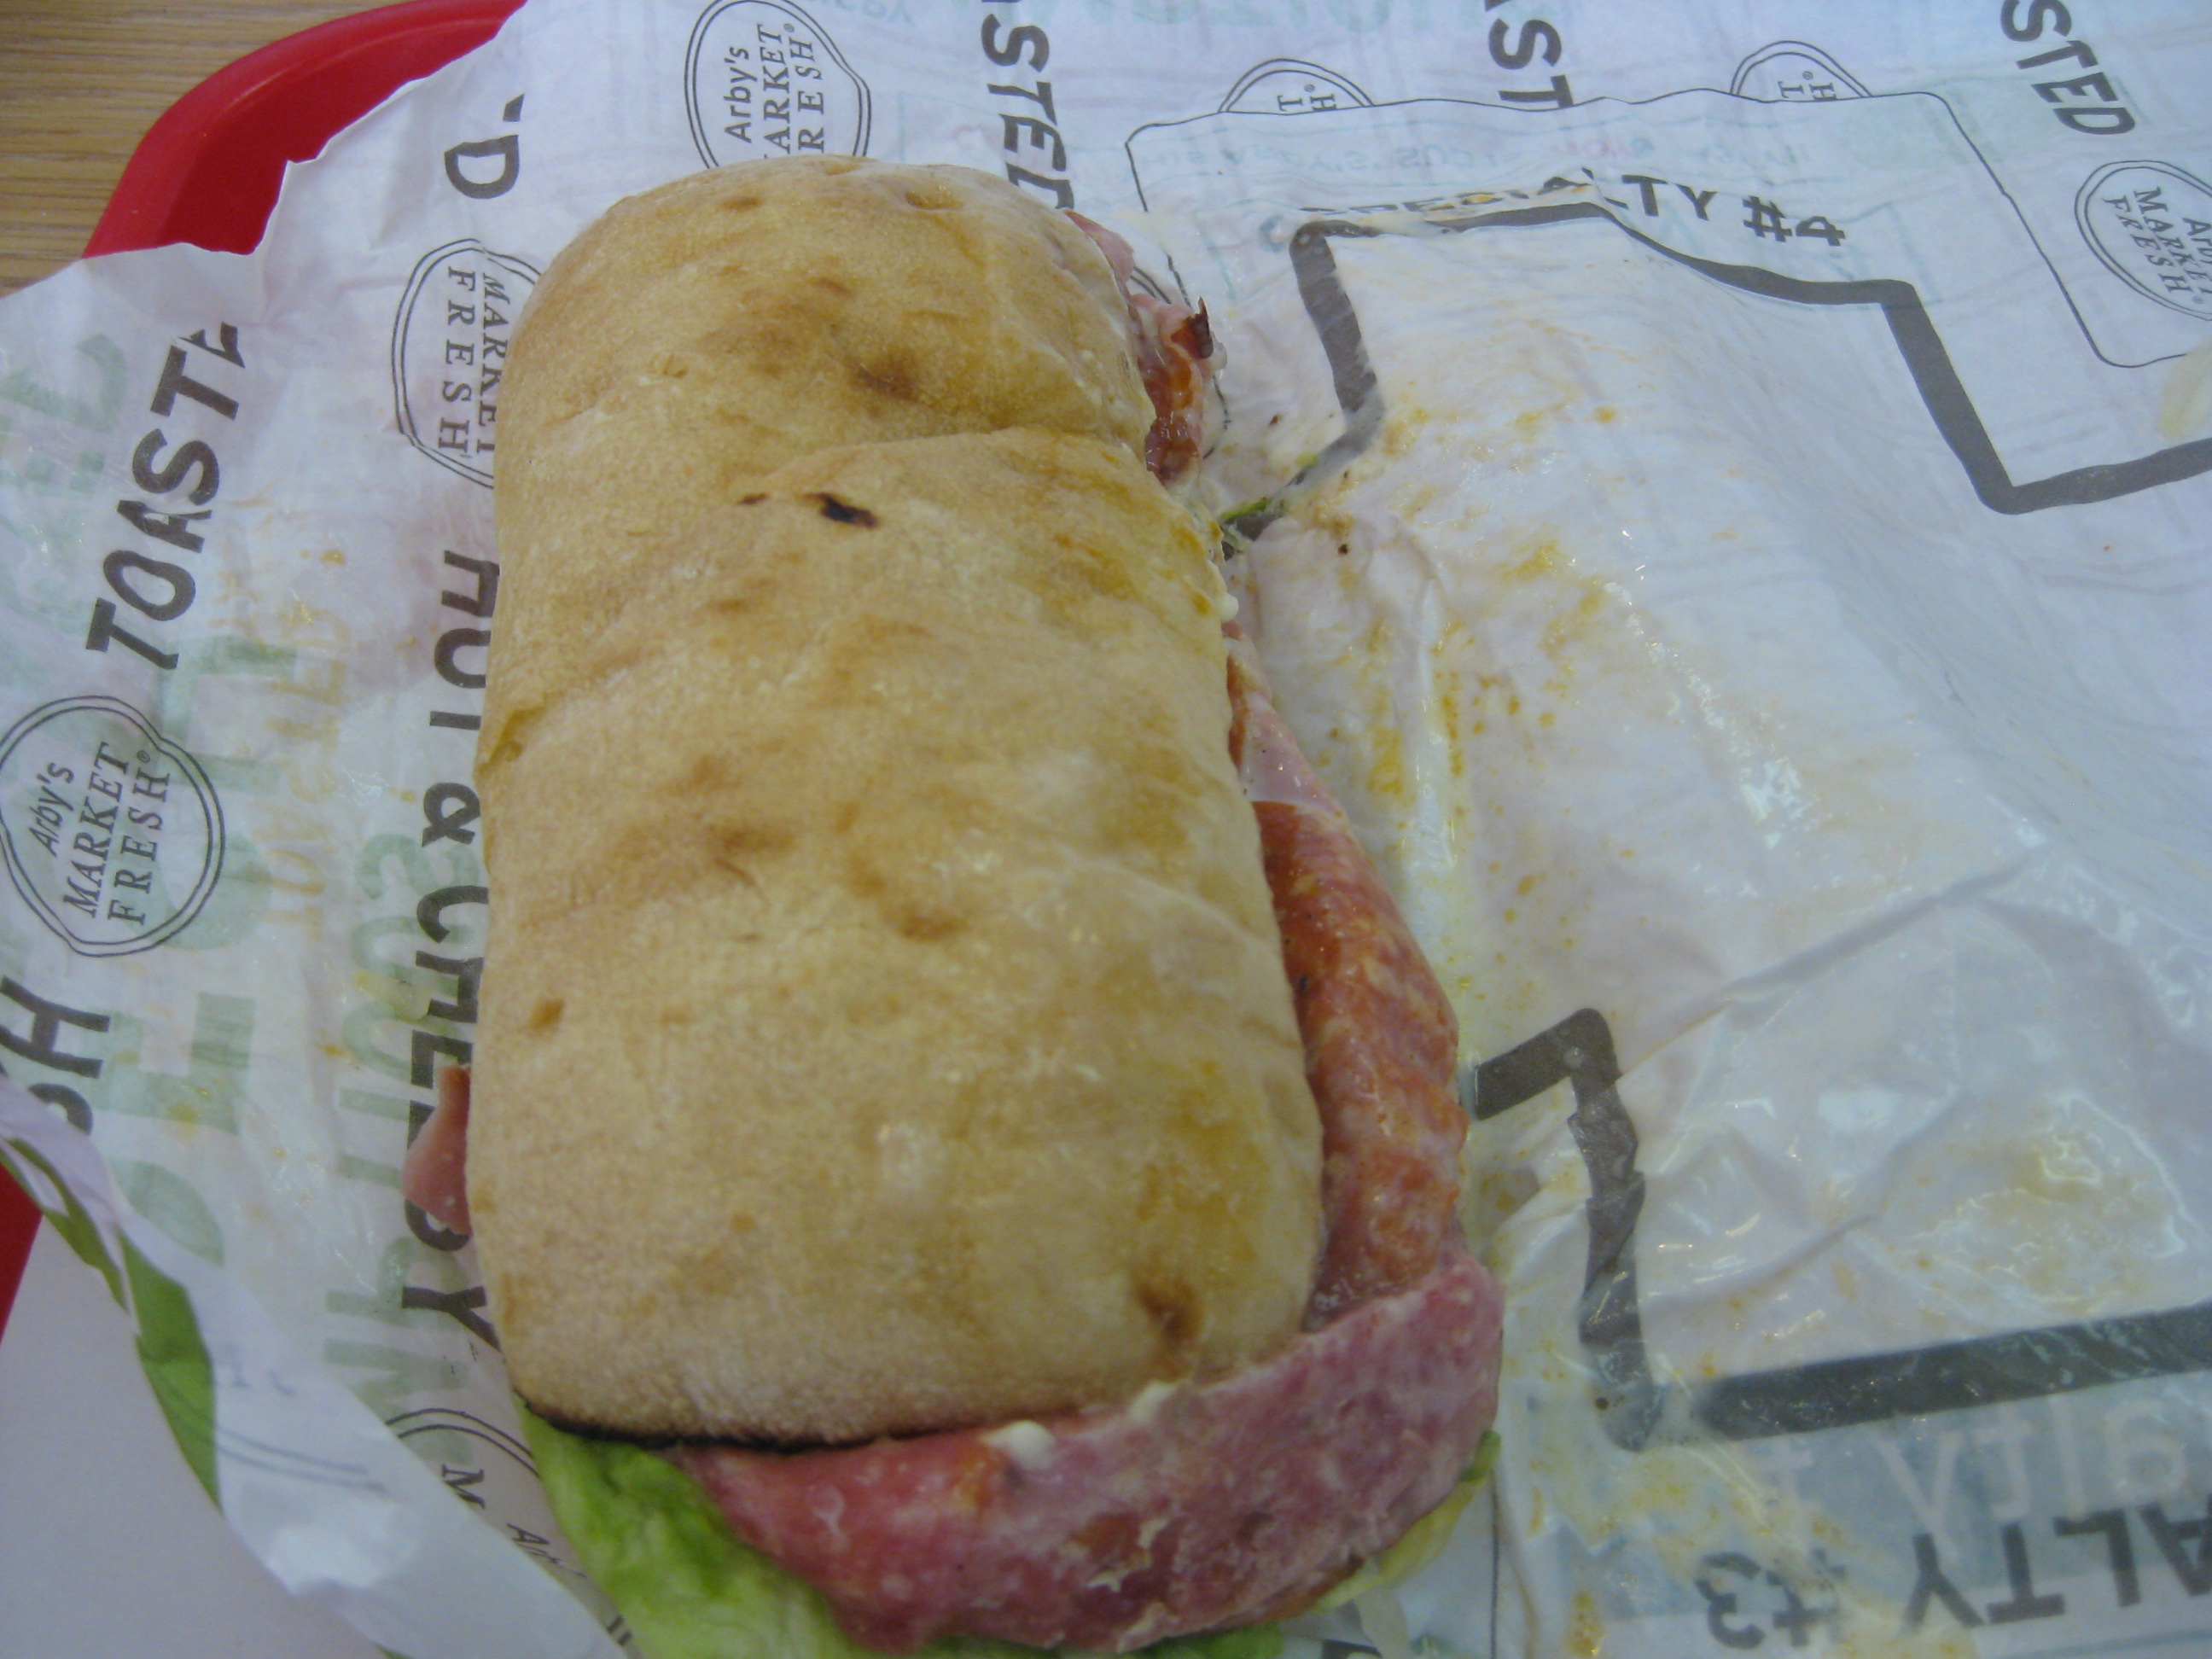sub: (434, 147, 1585, 1585)
